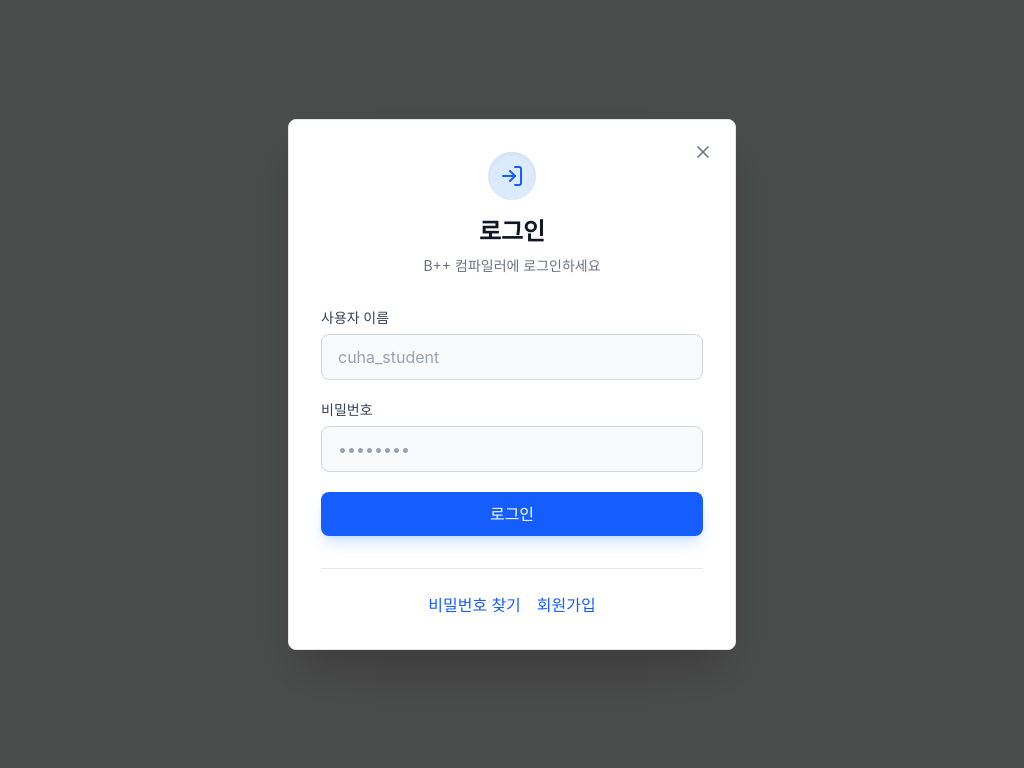
Scenario: AuthModal form accessibility › associates every registration label with its input
Click the button "회원가입": (566, 604) [537, 592, 596, 616]
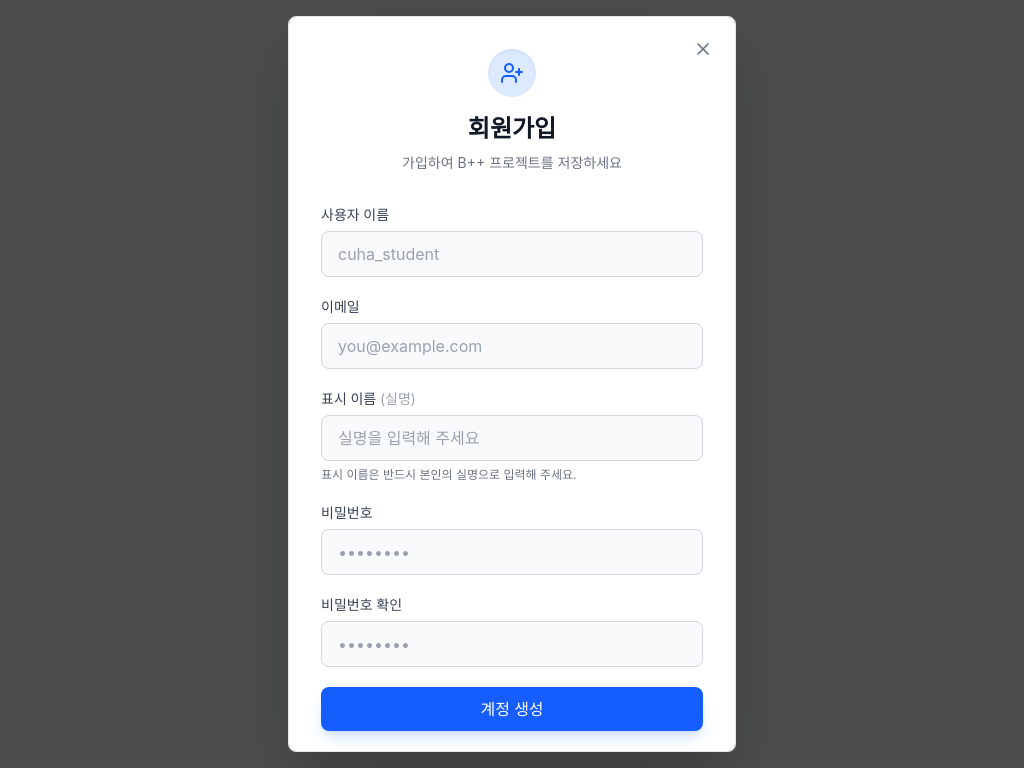
Expected: the field labelled "사용자 이름" is shown, [321, 231, 703, 277]
Now the field labelled "이메일" is shown, box [321, 323, 703, 369]
Now the password field labelled "비밀번호 확인" is shown, box [321, 621, 703, 667]
